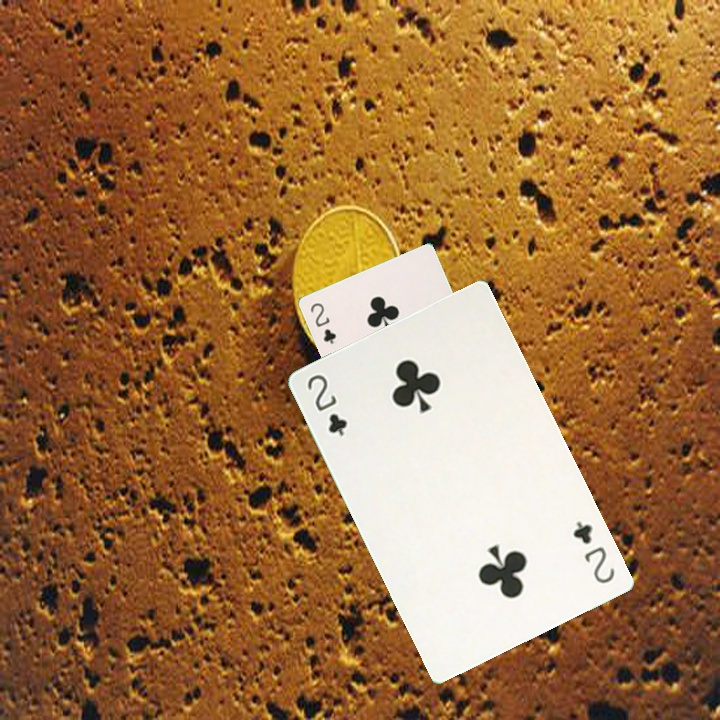2c: (569, 517, 618, 587), (303, 370, 350, 439), (306, 298, 339, 347)
